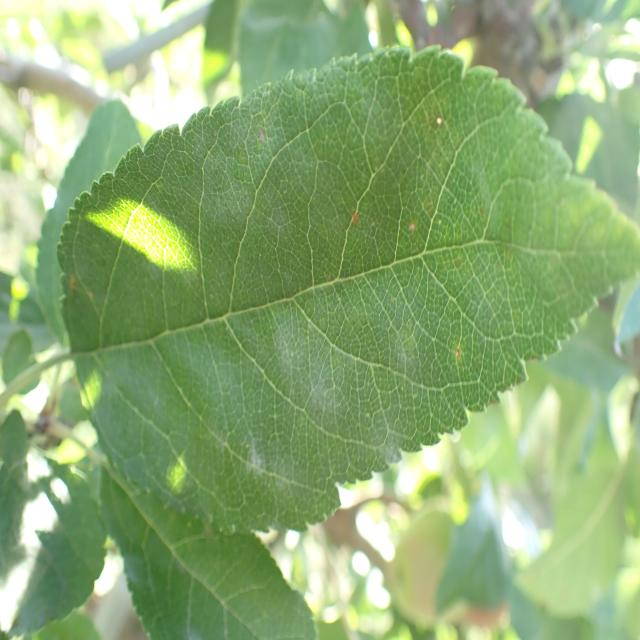Powdery_mildew: (64, 48, 626, 526)
